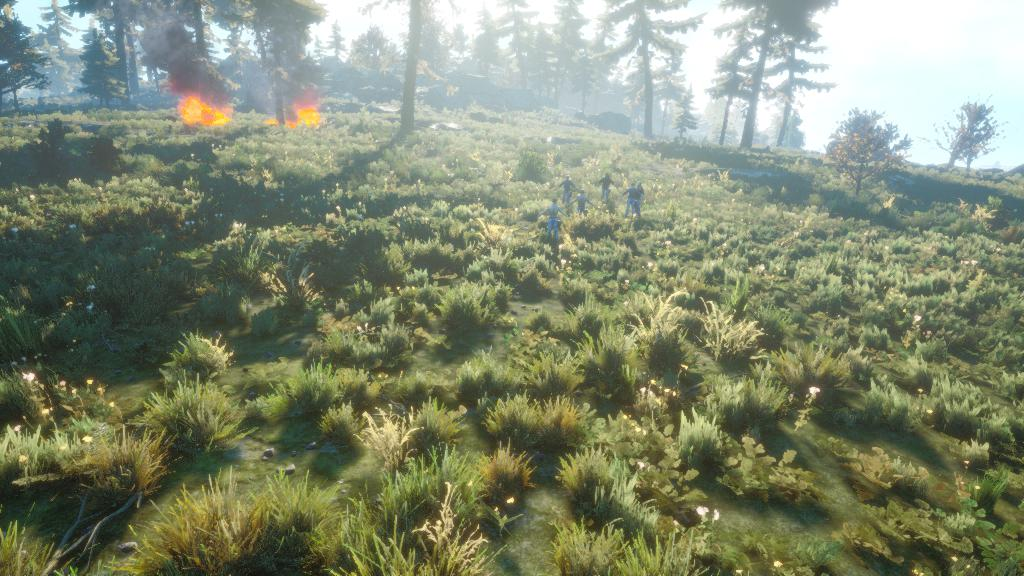Fire: (176, 93, 237, 128), (261, 104, 325, 133)
human: (545, 167, 586, 212), (588, 163, 623, 208), (627, 175, 655, 224), (539, 196, 568, 241)
smoke: (144, 21, 233, 90), (255, 32, 326, 99)
